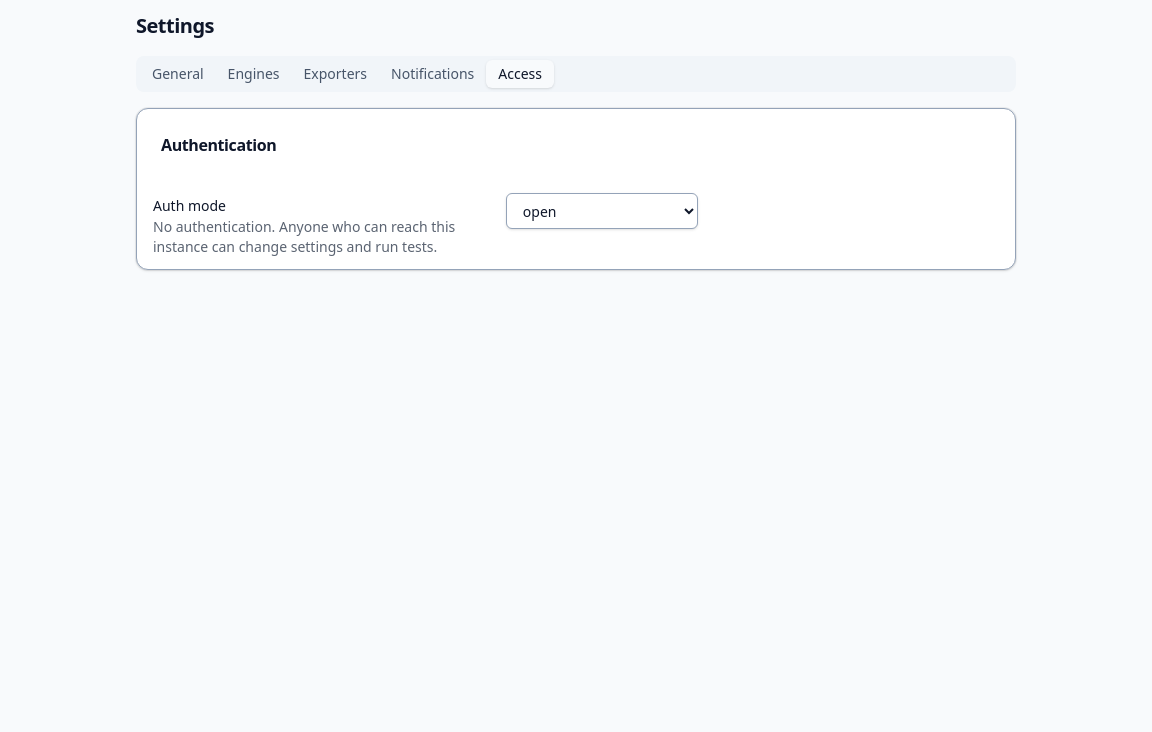
Settings page › shows the server lockout-guard message
Select "forward_auth" in the dropdown labelled "Auth mode" at (602, 211), box [506,193,698,229]
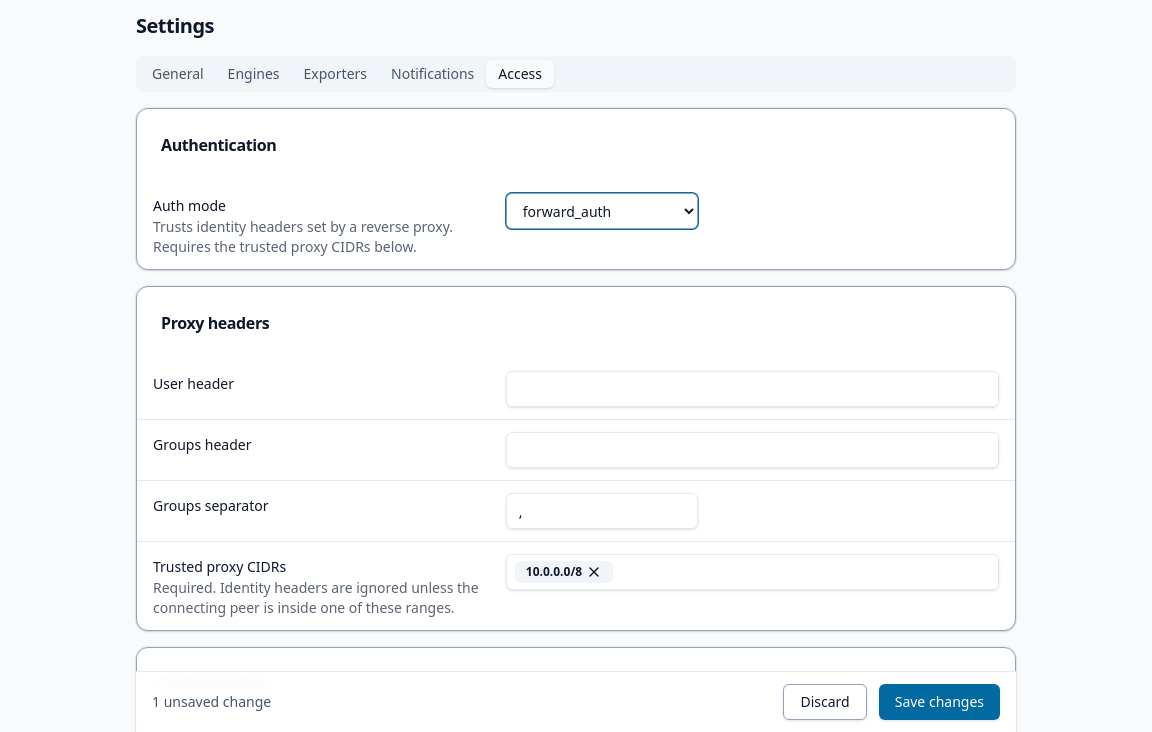
Click the button "Save changes" at (939, 702), box [879,684,1000,720]
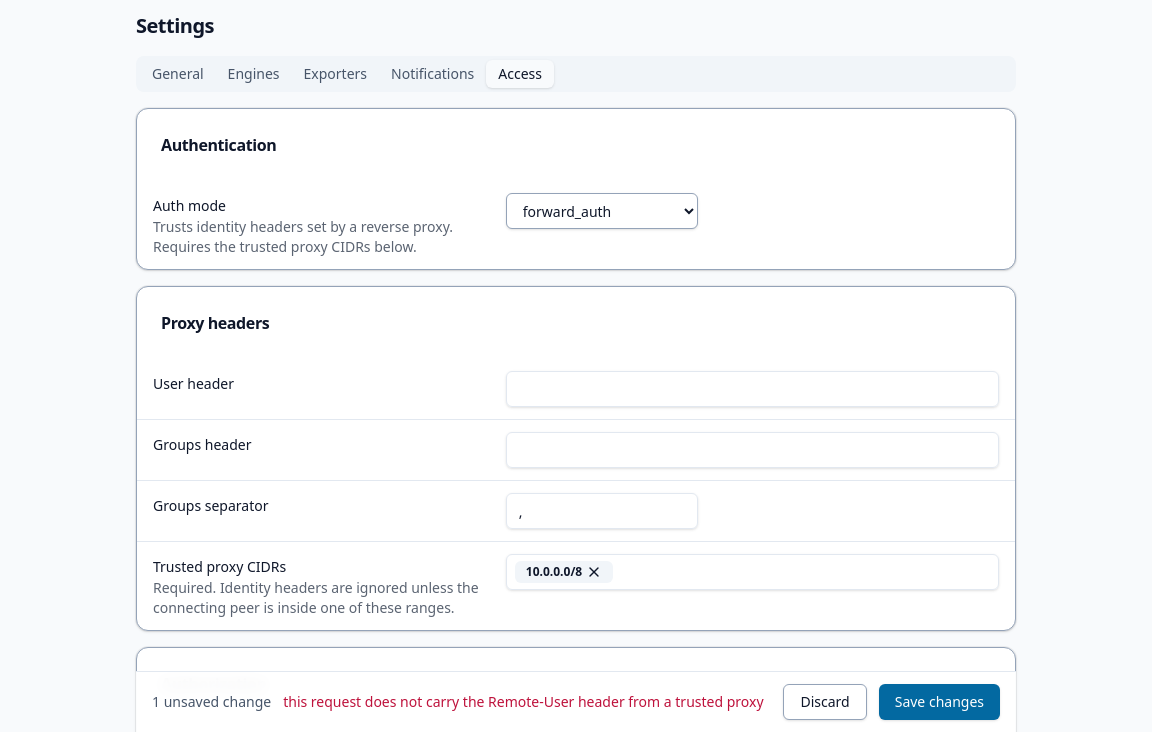
Expected: the message shows "Remote-User", [283,692,764,711]
